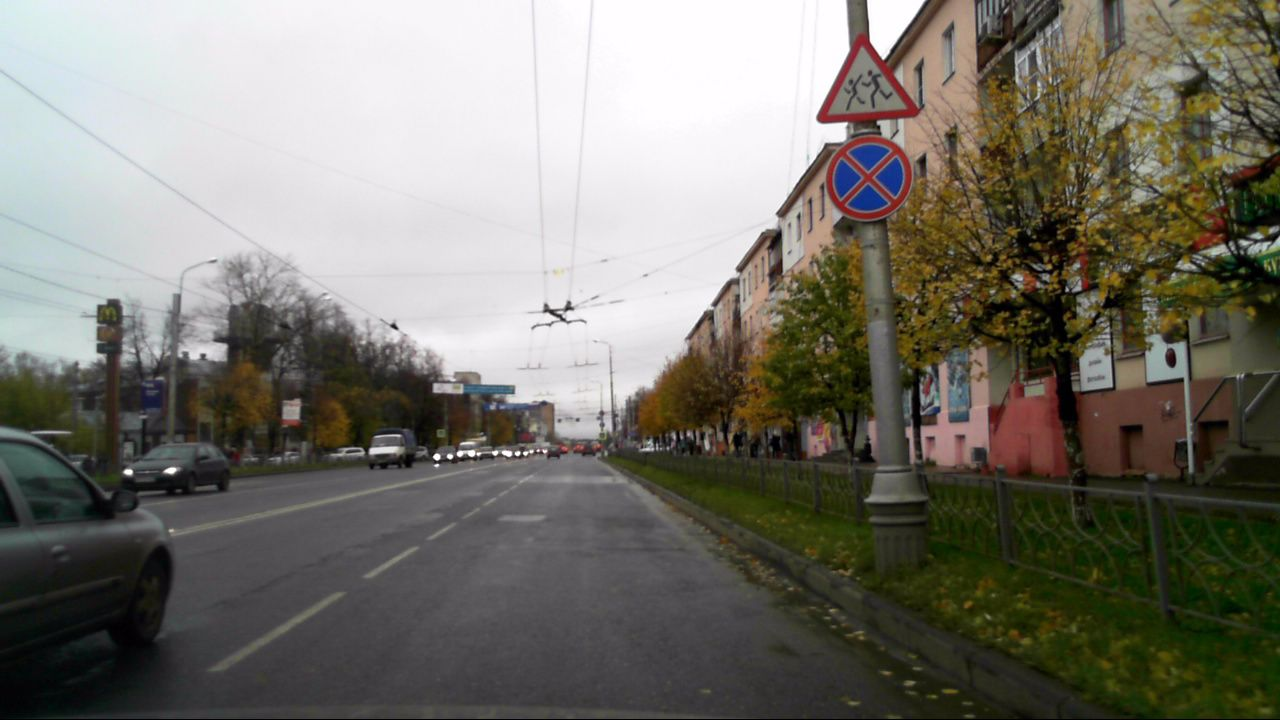No Parking: (826, 135, 912, 221)
